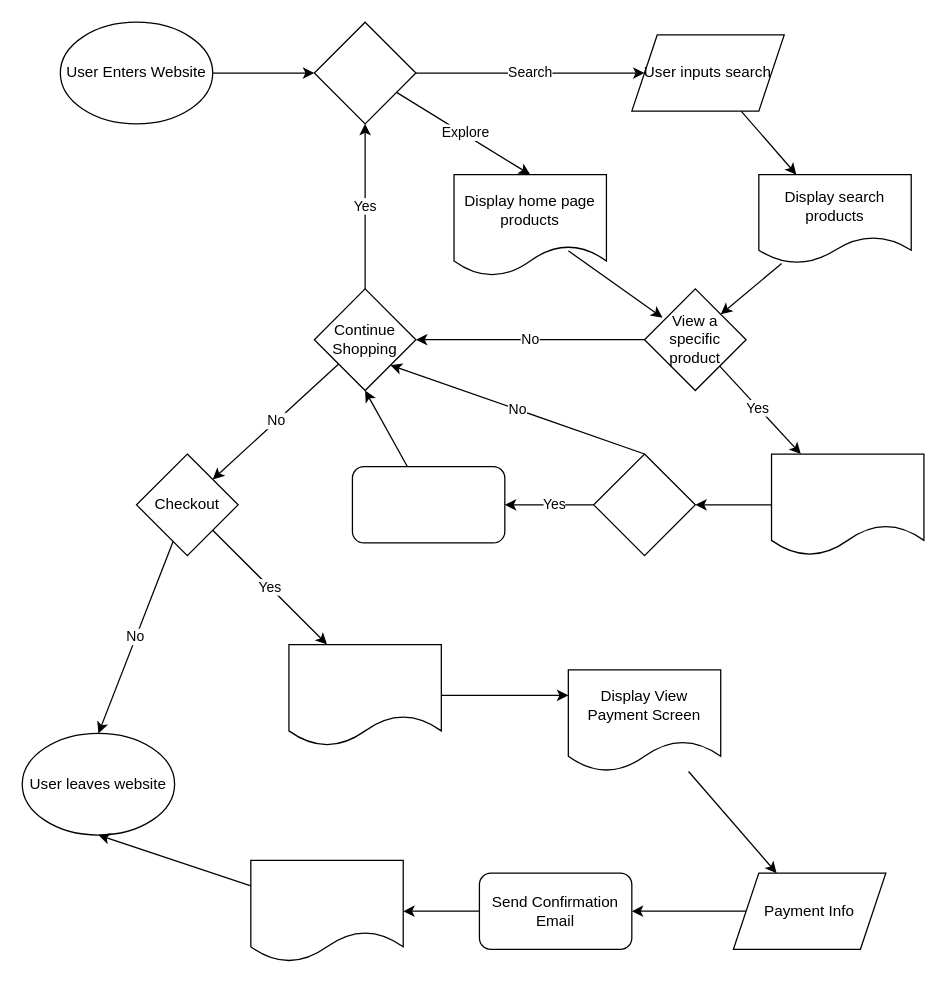
Some shapes in this 946 by 984 pixel diagram are drawn without their labels. Each missing label, with the centre of its shape:
Add to Cart: the point at 643,504
Display specific product's webpage: the point at 847,504
Display View Cart screen: the point at 364,694
Order Confirmation Screen: the point at 326,910
Search or Explore: the point at 364,72
Show Add to Cart Confirmation: the point at 428,504
